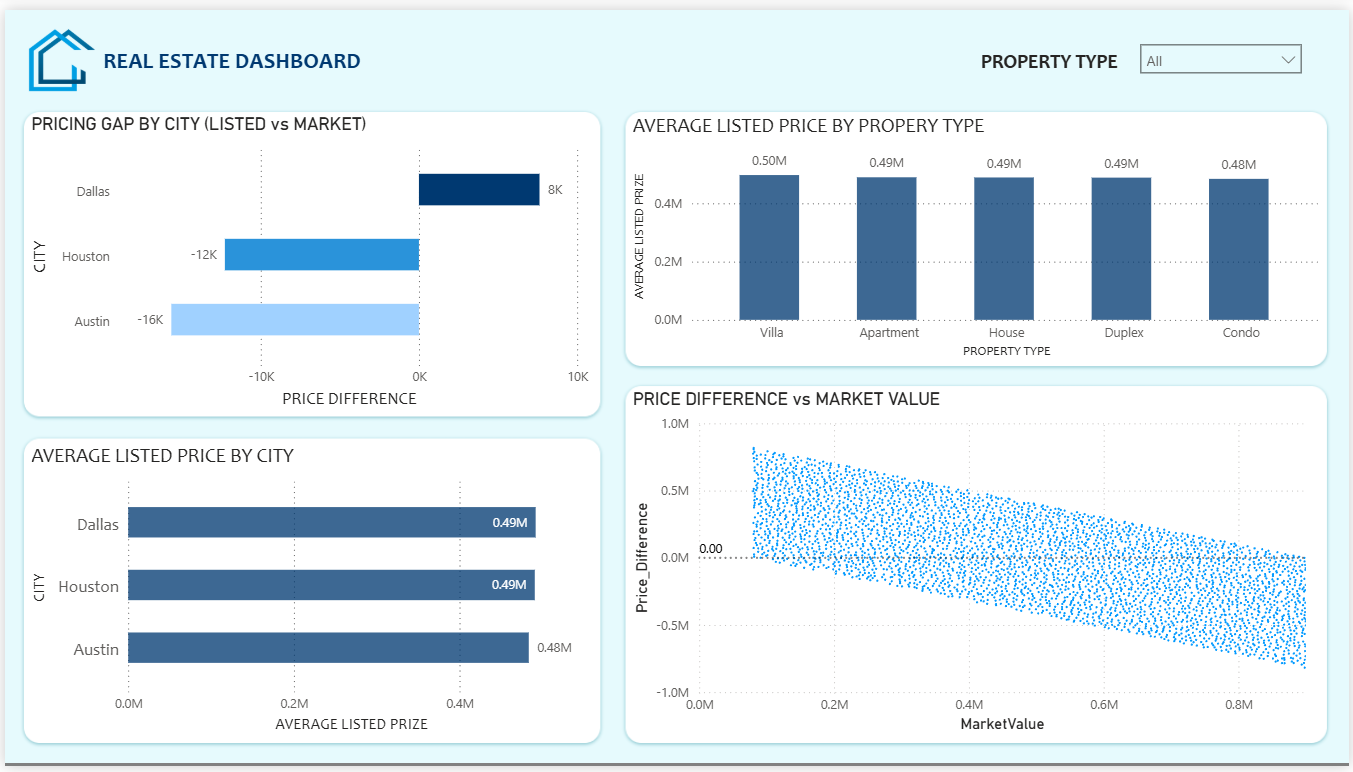

This screenshot's page, from the dashboard's own definition file:
{"tool":"powerbi","page":{"name":"PROPERTY PRICING ANALYSIS","canvas":[1280,720],"ordinal":1},"visuals":[{"type":"barChart","title":"AVERAGE LISTED PRICE BY CITY","fields":{"Category":["Properties.City"],"Y":["Measure_Table.Avg_Listed_Price"]},"box":[20.5,412.7,541.8,280.4],"z":0},{"type":"columnChart","title":"AVERAGE LISTED PRICE BY PROPERY TYPE","fields":{"Category":["Properties.PropertyType"],"Y":["Measure_Table.Avg_Listed_Price"]},"box":[592.2,99.2,664.7,237.8],"z":1000},{"type":"barChart","title":"PRICING GAP BY CITY (LISTED vs MARKET)","fields":{"Category":["Properties.City"],"Y":["Measure_Table.Price_Difference"]},"box":[20.5,99.2,541.8,285.1],"z":2000},{"type":"slicer","title":" PROPERTY TYPE","fields":{"Values":["Properties.PropertyType"]},"box":[1072.1,22.5,173.3,46.7],"z":4000},{"type":"scatterChart","title":"PRICE DIFFERENCE vs MARKET VALUE","fields":{"X":["Properties.MarketValue"],"Y":["Measure_Table.Price_Difference"]},"box":[592.2,360.7,664.7,332.3],"z":5000},{"type":"image","box":[20,13.3,68.3,70],"z":6000},{"type":"textbox","box":[923.8,30.9,148.3,45],"z":7000},{"type":"textbox","box":[89.1,29.7,281.2,39.1],"z":9000}]}

Visuals, with their boxes in screenshot pixels (x1, y1, x2, y2), scaled from the page's 1280x720 canvas onto the 1353x772 screenshot:
"AVERAGE LISTED PRICE BY CITY" barChart: {"x1": 22, "y1": 443, "x2": 594, "y2": 743}
"AVERAGE LISTED PRICE BY PROPERY TYPE" columnChart: {"x1": 626, "y1": 106, "x2": 1329, "y2": 361}
"PRICING GAP BY CITY (LISTED vs MARKET)" barChart: {"x1": 22, "y1": 106, "x2": 594, "y2": 412}
" PROPERTY TYPE" slicer: {"x1": 1133, "y1": 24, "x2": 1316, "y2": 74}
"PRICE DIFFERENCE vs MARKET VALUE" scatterChart: {"x1": 626, "y1": 387, "x2": 1329, "y2": 743}
image: {"x1": 21, "y1": 14, "x2": 93, "y2": 89}
textbox: {"x1": 976, "y1": 33, "x2": 1133, "y2": 81}
textbox: {"x1": 94, "y1": 32, "x2": 391, "y2": 74}
